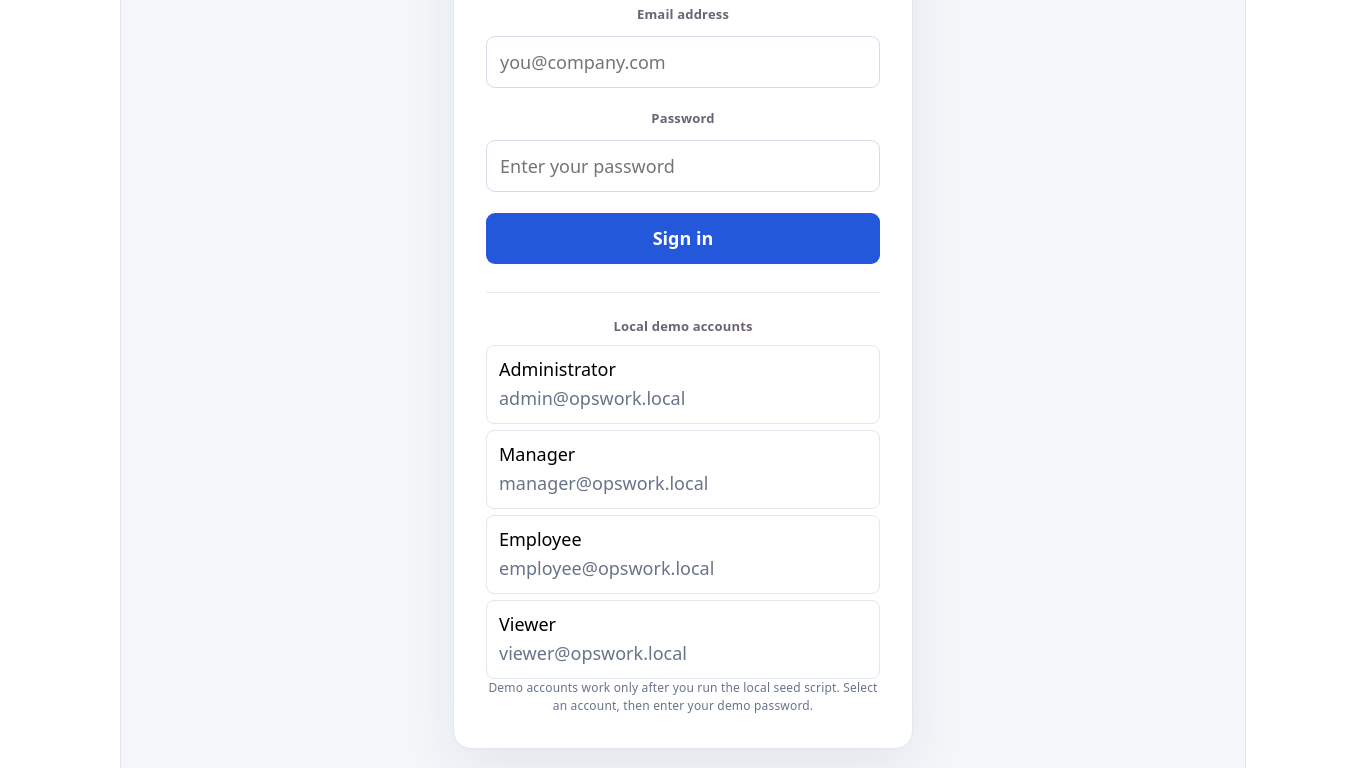
Test case: LoginPage › offers the renamed local demo accounts in development
The image size is (1366, 768).
(page scrolled)
Click the button "Administrator admin@opswork.local". click: point(683, 384)
box: [486,345,880,424]
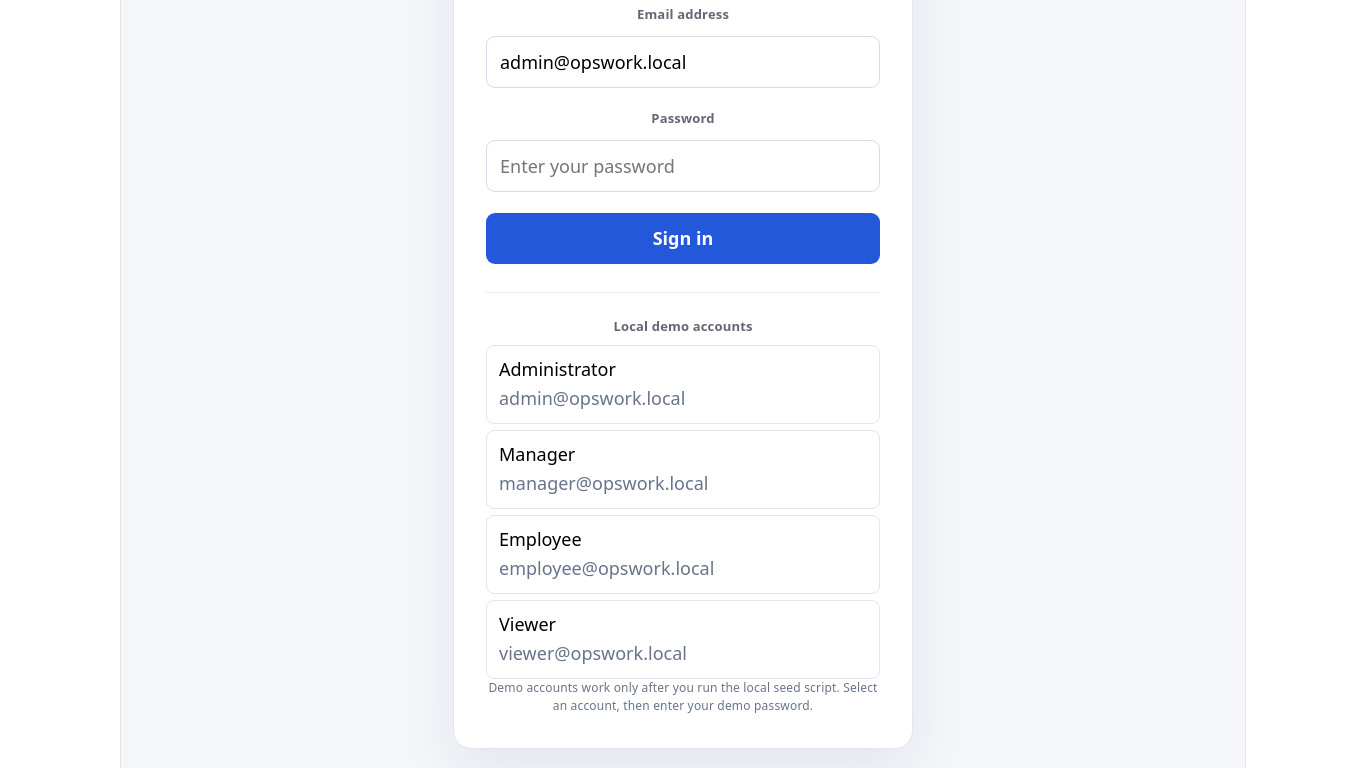
Result: the field labelled "Email address" holds "admin@opswork.local" at [486,36,880,88]
